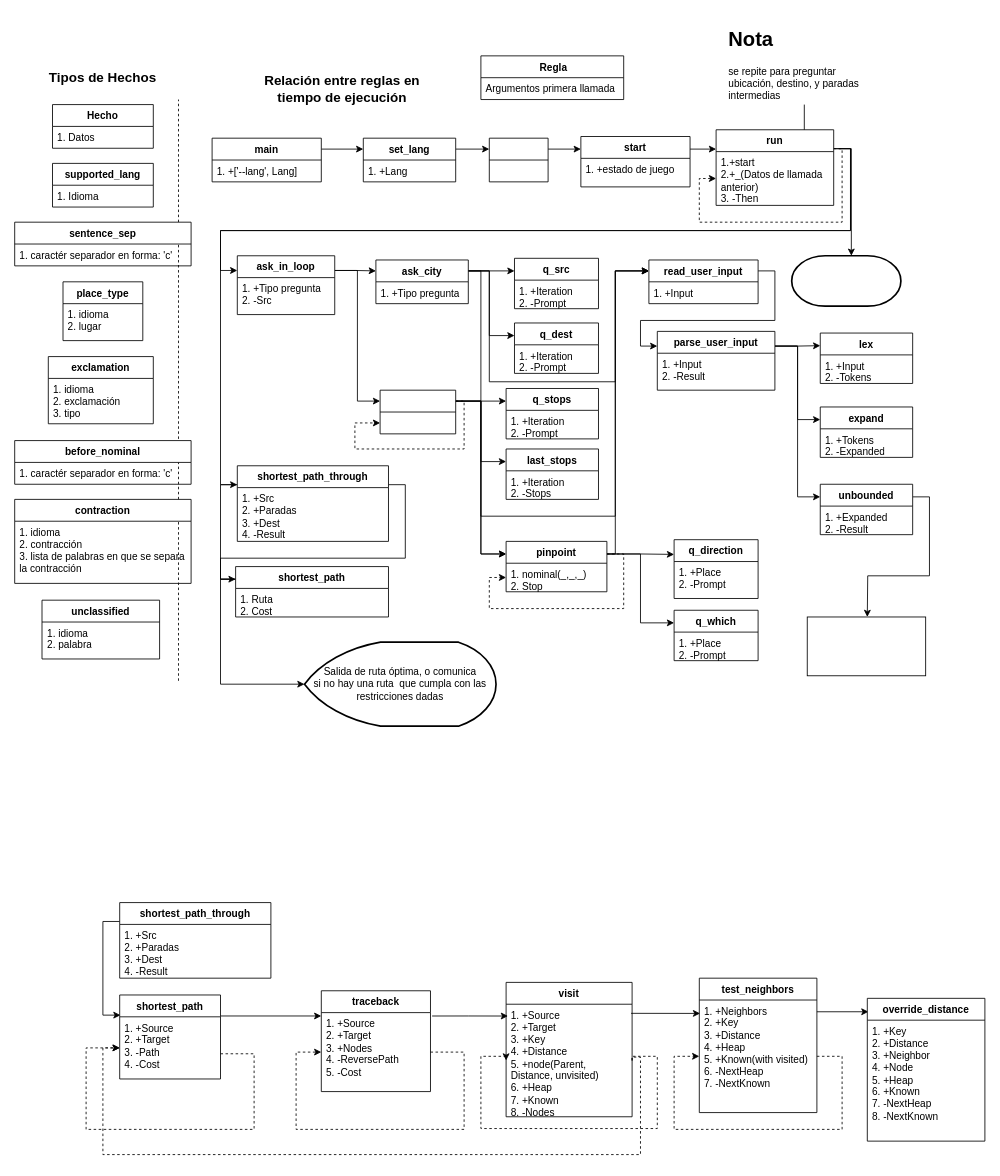
The diagram is 1000 pixels wide and 1176 high, and some of its shapes have lost their labels. The shapes that lost their labels are listed below. From the top down, each one's centre as x and y in pixels, then its label:
At pixel 518 159: "loop".
At pixel 845 281: "Final de ejecución".
At pixel 417 411: "ask_stops".
At pixel 866 646: "Módulos de procesamiento de lenguaje".
